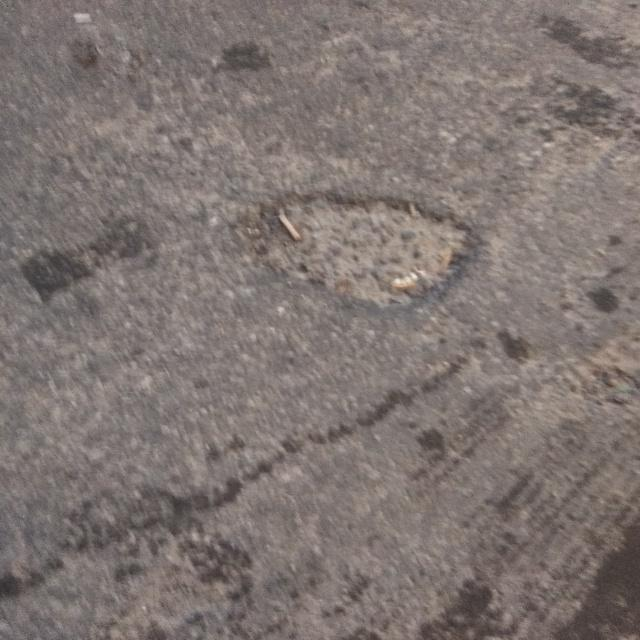Pothole: (276, 171, 472, 312)
Surface Erosion: (16, 24, 640, 623)
